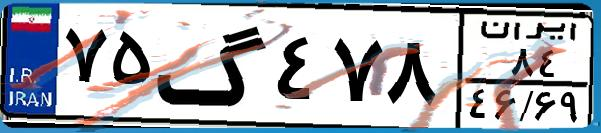4: (270, 28, 330, 110), (537, 27, 568, 80), (470, 70, 495, 125)
5: (110, 28, 156, 98)
6: (495, 70, 520, 125), (535, 70, 560, 125)
7: (330, 28, 385, 110), (57, 26, 110, 100)
8: (385, 28, 445, 110), (508, 27, 537, 80)
9: (560, 70, 590, 125)
گ: (156, 12, 270, 120)
